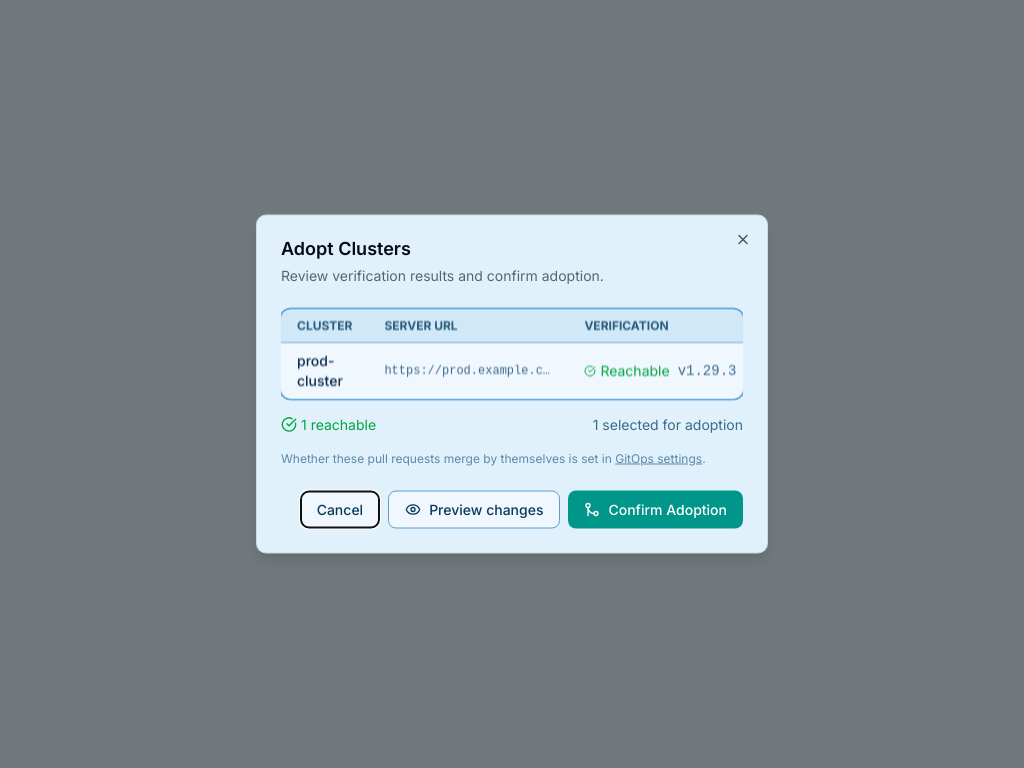
Scenario: AdoptClustersDialog › F2: Adoption failure handling + type alignment › renders PR link from git.pr_url when adoption succeeds
The image size is (1024, 768).
Expected: the text "Reachable" is shown, [600,361,670,378]
Confirm adoption
What coordinates should you click on to do the following:
click the button "Confirm Adoption"
I would click on:
 (656, 510)
Its box is [568,490,743,528].
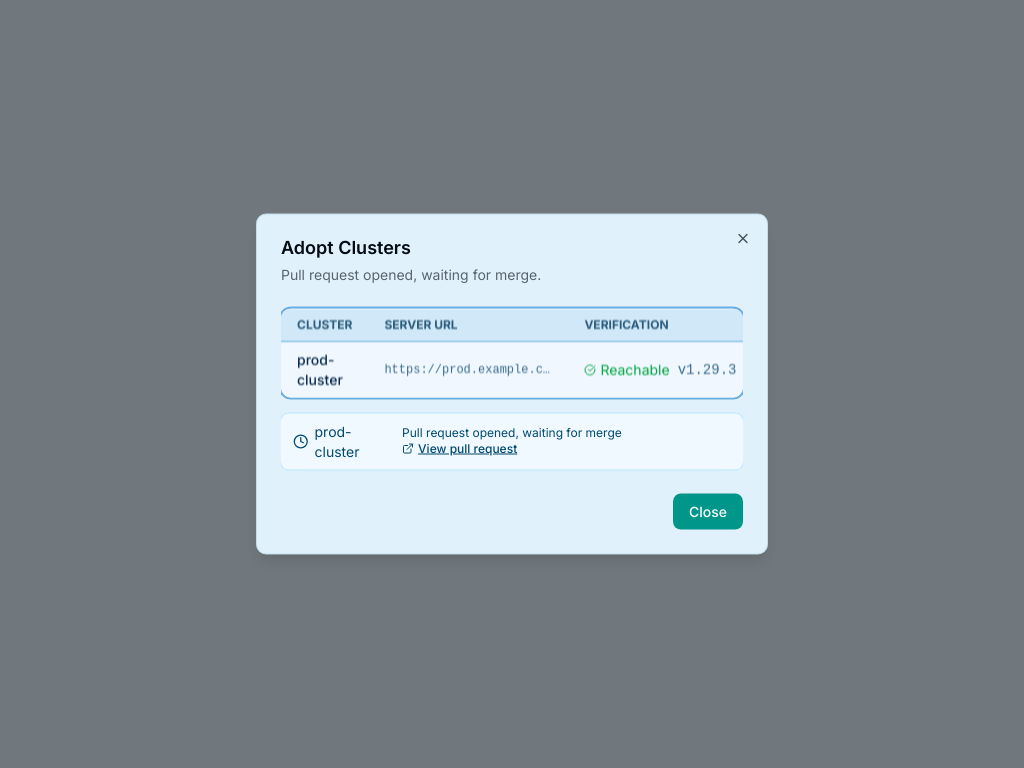
Now the link "View pull request" is shown, box [402,440,517,456]
